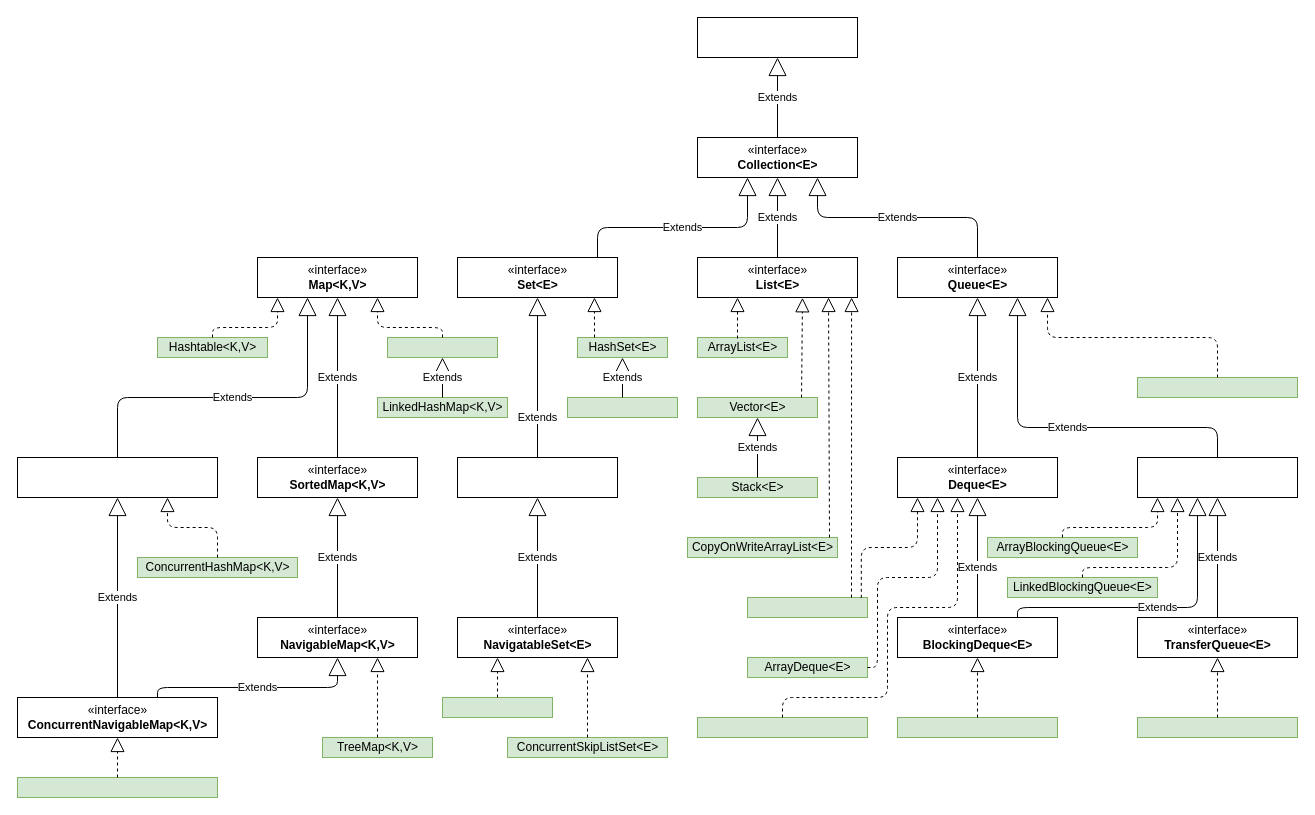
The diagram is 1315 pixels wide and 815 high, and some of its shapes have lost their labels. The shapes that lost their labels are listed below. From the top down, each one's centre as x and y in pixels, then its label:
At point 777,37: "«interface» Iterable<E>".
At point 442,347: "HashMap<K,V>".
At point 622,407: "LinkedHashSet<E>".
At point 1217,387: "ConcurrentLinkedQueue<E>".
At point 117,477: "«interface» ConcurrentMap<K,V>".
At point 537,477: "«interface» SortedSet<E>".
At point 1217,477: "«interface» BlockingQueue<E>".
At point 807,607: "LinkedList<E>".
At point 497,707: "TreeSet<E>".
At point 782,727: "ConcurrentLinkedDeque<E>".
At point 977,727: "LinkedBlockingDeque<E>".
At point 1217,727: "LinkedTransferQueue<E>".
At point 117,787: "ConcurrentSkipListMap<K,V>".
